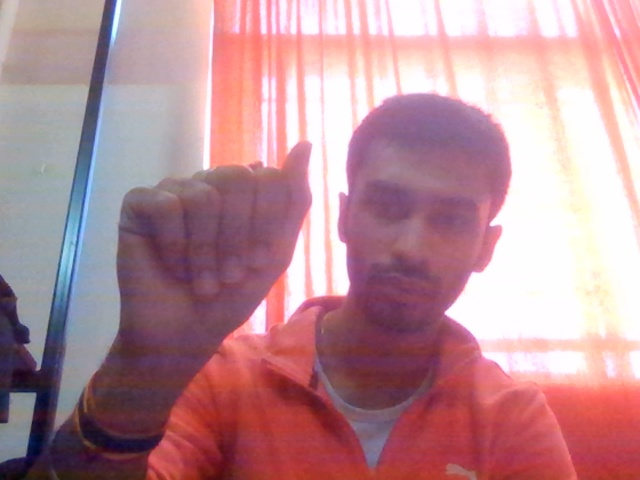A: (108, 134, 339, 402)
